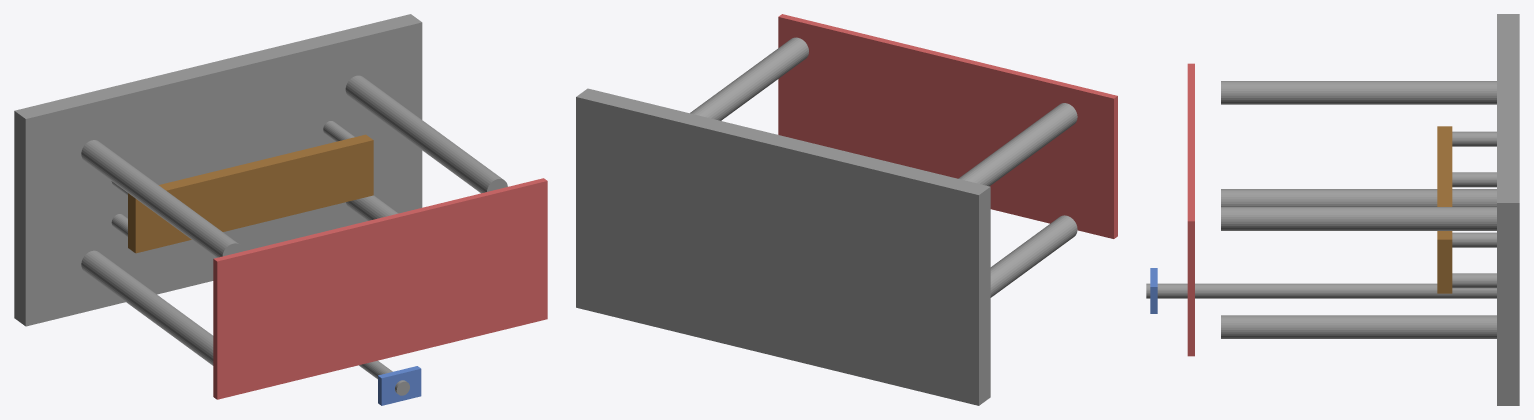
File: bus_stop.glb
3 renders of one model, left to right at view 1: azimuth 30°, elevation 25°; view 2: azimuth 150°, elevation 25°; view 3: azimuth 270°, elevation 25°, orthographic. The views are drawn at different scales.
Visible parts, largest first — view 1: geometry_0, geometry_1, geometry_2, geometry_3, geometry_6, geometry_4, geometry_5; view 2: geometry_0, geometry_1, geometry_2; view 3: geometry_2, geometry_0, geometry_5, geometry_4, geometry_1, geometry_3, geometry_6.
Boxes of the visible parts, x1,y1,x2,y2 form: geometry_0: (14,14,422,326); geometry_1: (213,178,547,399); geometry_2: (81,75,507,365); geometry_3: (128,134,373,253); geometry_6: (378,366,421,405); geometry_4: (111,121,354,237); geometry_5: (359,360,409,395); geometry_0: (576,88,990,405); geometry_1: (778,14,1117,238); geometry_2: (632,37,1077,350); geometry_2: (1221,81,1496,338); geometry_0: (1497,14,1519,405); geometry_5: (1146,283,1496,298); geometry_4: (1452,131,1496,288); geometry_1: (1187,63,1194,356); geometry_3: (1437,126,1452,293); geometry_6: (1150,268,1157,313).
Size of the model in its own units: 3 by 1.5 by 2.5.
